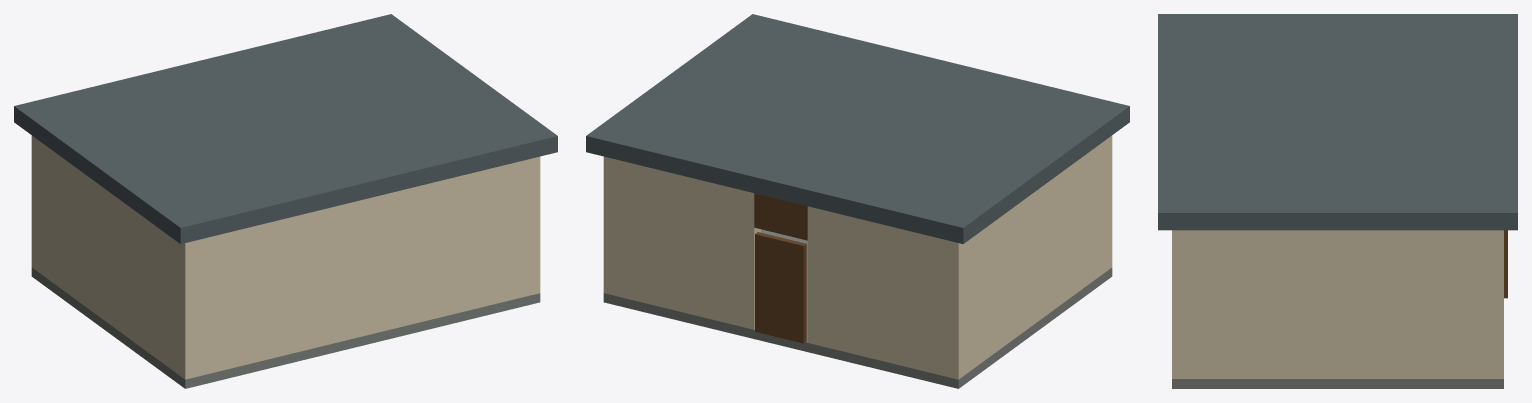
File: functional-cottage-v1.glb
The picture shows the model from 3 angles, left to right: view 1: azimuth 30°, elevation 25°; view 2: azimuth 150°, elevation 25°; view 3: azimuth 270°, elevation 25°; orthographic projection. The views are drawn at different scales.
Visible parts, largest first — view 1: visual/roof, visual/north, visual/west, visual/floor, visual/south-left; view 2: visual/roof, visual/south-left, visual/south-right, visual/west, visual/floor, door/front, visual/south-lintel, visual/north; view 3: visual/roof, visual/east, visual/floor, visual/south-right, visual/north.
Part boxes in pixels (x1,y1,x2,y2): visual/roof: (14,14,557,243); visual/north: (179,156,540,379); visual/west: (35,140,181,376); visual/floor: (31,267,540,388); visual/south-left: (31,135,37,271); visual/roof: (586,14,1129,243); visual/south-left: (807,206,964,379); visual/south-right: (603,156,760,329); visual/west: (962,138,1109,376); visual/floor: (603,229,1112,388); door/front: (755,232,806,343); visual/south-lintel: (754,193,807,240); visual/north: (1109,135,1112,268); visual/roof: (1158,14,1517,230); visual/east: (1178,230,1497,378); visual/floor: (1172,379,1503,388); visual/south-right: (1490,230,1503,378); visual/north: (1172,230,1185,378).
Size of the model in its own units: 8.5 by 3.62 by 6.5.
